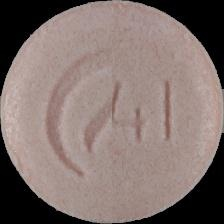0228-4241: (0, 0, 224, 224)
